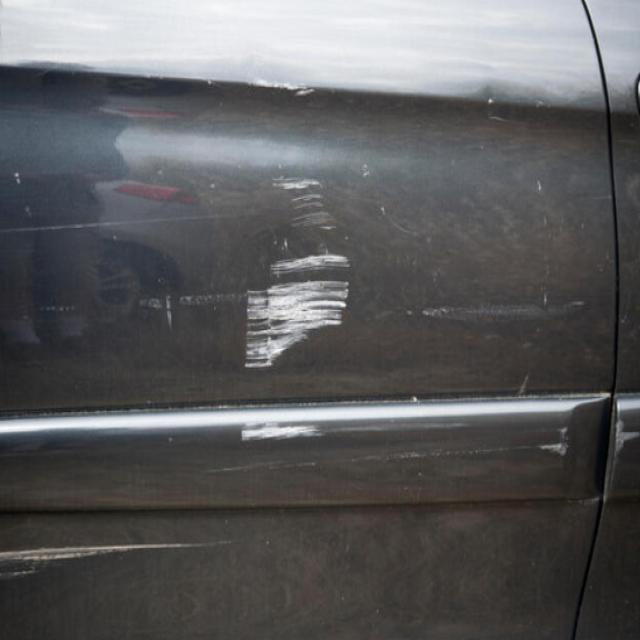scratch: (0, 503, 248, 592), (223, 242, 357, 374), (506, 401, 639, 490), (216, 390, 349, 479), (221, 153, 354, 242)
